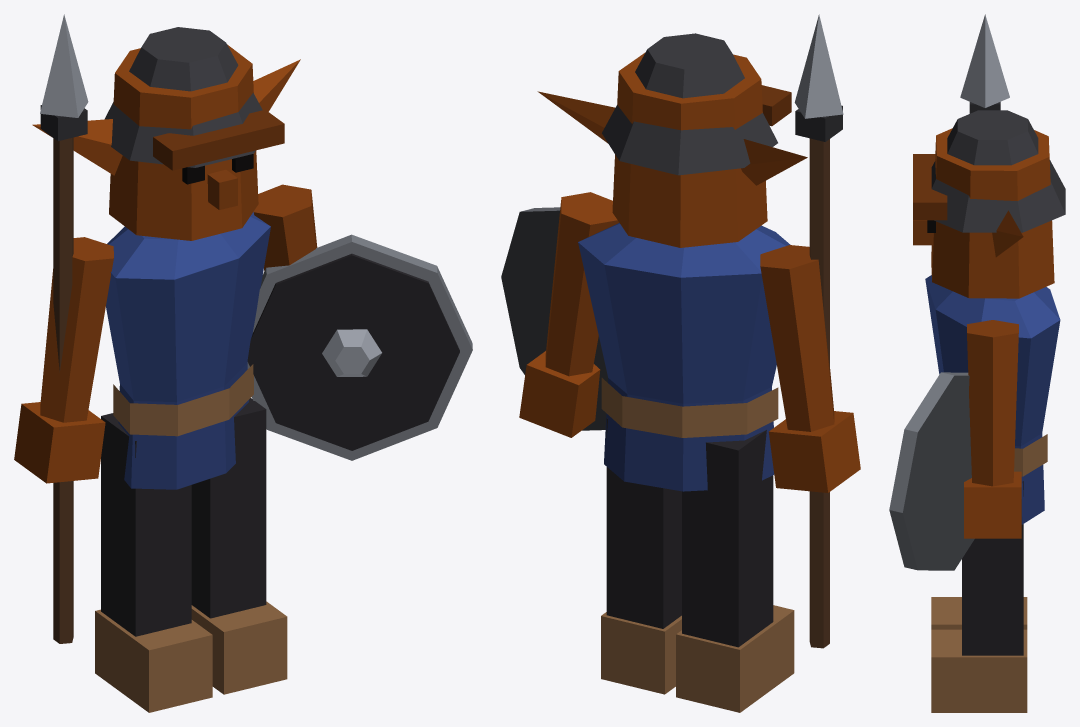
The model's file is hobgoblin.glb.
The picture shows the model from 3 angles, left to right: view 1: azimuth 30°, elevation 25°; view 2: azimuth 150°, elevation 25°; view 3: azimuth 270°, elevation 25°; orthographic projection. The views are drawn at different scales.
Visible parts, largest first — view 1: hobgoblin_shield, hobgoblin_torso, hobgoblin_head, hobgoblin_leg_r, hobgoblin_leg_l, hobgoblin_arm_r, hobgoblin_spear, hobgoblin_arm_l; view 2: hobgoblin_torso, hobgoblin_head, hobgoblin_leg_r, hobgoblin_leg_l, hobgoblin_arm_r, hobgoblin_arm_l, hobgoblin_spear, hobgoblin_shield; view 3: hobgoblin_head, hobgoblin_leg_l, hobgoblin_shield, hobgoblin_torso, hobgoblin_arm_l, hobgoblin_spear, hobgoblin_leg_r.
Part boxes in pixels (bbox=[...]): hobgoblin_shield: bbox=[247, 234, 472, 460]; hobgoblin_torso: bbox=[106, 212, 270, 489]; hobgoblin_head: bbox=[32, 27, 300, 240]; hobgoblin_leg_r: bbox=[95, 413, 212, 712]; hobgoblin_leg_l: bbox=[191, 398, 287, 694]; hobgoblin_arm_r: bbox=[14, 237, 113, 483]; hobgoblin_spear: bbox=[40, 14, 88, 643]; hobgoblin_arm_l: bbox=[253, 184, 317, 270]; hobgoblin_torso: bbox=[578, 222, 790, 491]; hobgoblin_head: bbox=[537, 33, 807, 247]; hobgoblin_leg_r: bbox=[676, 430, 794, 712]; hobgoblin_leg_l: bbox=[601, 418, 681, 694]; hobgoblin_arm_r: bbox=[760, 245, 860, 492]; hobgoblin_arm_l: bbox=[519, 192, 618, 437]; hobgoblin_spear: bbox=[794, 14, 843, 648]; hobgoblin_shield: bbox=[501, 207, 607, 430]; hobgoblin_head: bbox=[913, 110, 1065, 298]; hobgoblin_leg_l: bbox=[931, 481, 1027, 712]; hobgoblin_shield: bbox=[889, 372, 974, 570]; hobgoblin_torso: bbox=[925, 275, 1060, 524]; hobgoblin_arm_l: bbox=[964, 320, 1021, 538]; hobgoblin_spear: bbox=[960, 14, 1009, 113]; hobgoblin_leg_r: bbox=[931, 597, 1027, 629].
Size of the model in its own units: 1.05 by 1.76 by 0.4587.
